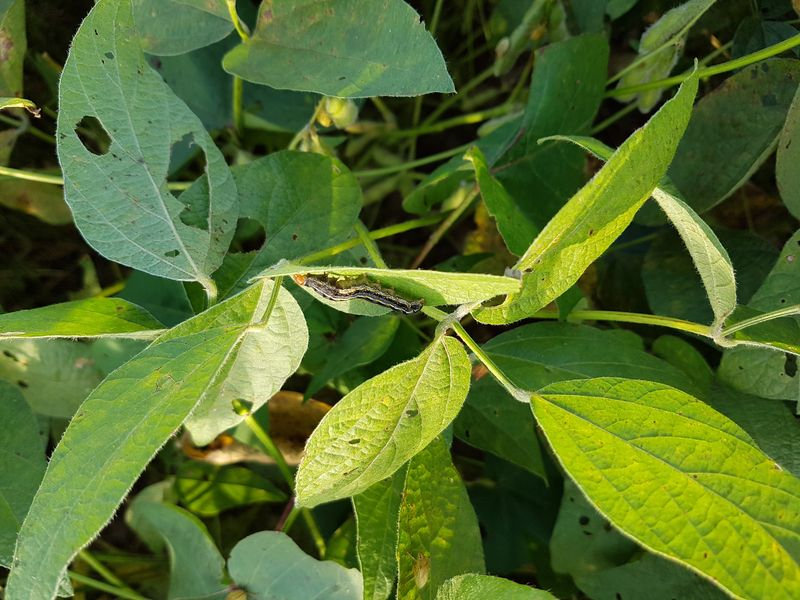Euschistus_heros_ninfa: (397, 541, 446, 595)
Spodoptera_albula: (278, 251, 438, 343)
